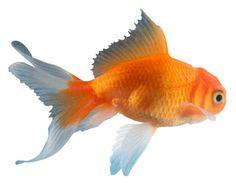goldfish: (39, 43, 229, 142)
